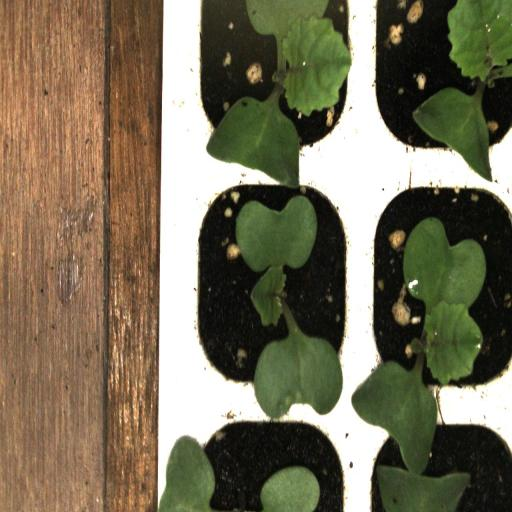seedling: (182, 169, 358, 415), (357, 170, 512, 416), (181, 0, 358, 168)
